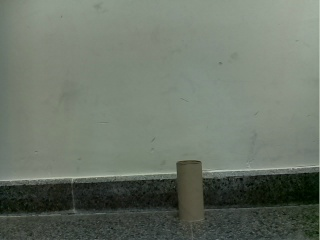rollo papel: (176, 160, 204, 222)
